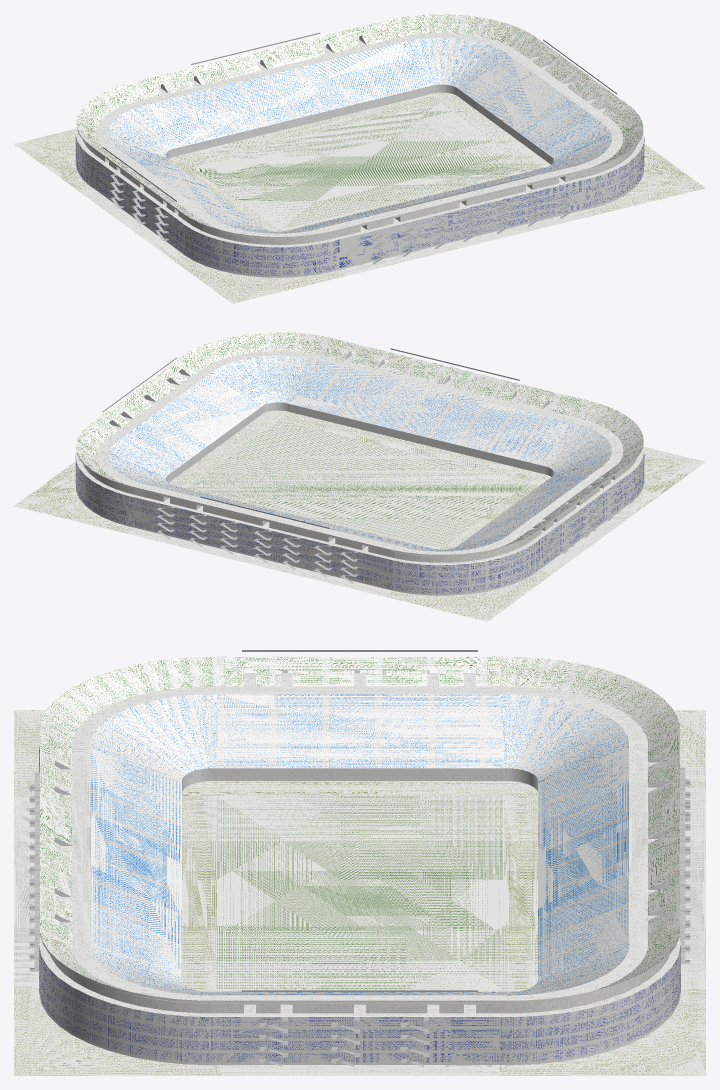
Rendered from estadio2.glb.
3 views of the same model, one above another, from view 1: azimuth 30°, elevation 25°; view 2: azimuth 150°, elevation 25°; view 3: azimuth 270°, elevation 25° (orthographic). The views are drawn at different scales.
Parts seen in each view (by area): view 1: SketchUp.002, SketchUp.003, SketchUp.001, SketchUp.201, SketchUp.202, SketchUp.004, SketchUp.200, SketchUp, SketchUp.006, SketchUp.353, SketchUp.356, SketchUp.351 (+1 smaller); view 2: SketchUp.002, SketchUp.003, SketchUp.001, SketchUp.201, SketchUp.202, SketchUp.004, SketchUp.200, SketchUp, SketchUp.356, SketchUp.354, SketchUp.355, SketchUp.006 (+1 smaller); view 3: SketchUp.002, SketchUp.003, SketchUp.201, SketchUp.001, SketchUp.202, SketchUp.004, SketchUp.200, SketchUp.353, SketchUp.354, SketchUp, SketchUp.355, SketchUp.351 (+3 smaller).
Part boxes in pixels (left/top/right/bottom): SketchUp.002: left=108, top=37, right=611, bottom=233; SketchUp.003: left=189, top=102, right=530, bottom=229; SketchUp.001: left=75, top=135, right=644, bottom=277; SketchUp.201: left=76, top=14, right=643, bottom=230; SketchUp.202: left=76, top=32, right=643, bottom=247; SketchUp.004: left=168, top=92, right=550, bottom=231; SketchUp.200: left=76, top=126, right=643, bottom=244; SketchUp: left=166, top=84, right=553, bottom=164; SketchUp.006: left=167, top=252, right=345, bottom=303; SketchUp.353: left=585, top=143, right=705, bottom=215; SketchUp.356: left=14, top=129, right=92, bottom=191; SketchUp.351: left=338, top=210, right=591, bottom=275; SketchUp.002: left=108, top=355, right=611, bottom=551; SketchUp.003: left=189, top=420, right=530, bottom=547; SketchUp.001: left=75, top=453, right=644, bottom=595; SketchUp.201: left=76, top=332, right=643, bottom=548; SketchUp.202: left=76, top=351, right=643, bottom=565; SketchUp.004: left=169, top=410, right=551, bottom=549; SketchUp.200: left=76, top=443, right=643, bottom=562; SketchUp: left=166, top=402, right=553, bottom=482; SketchUp.356: left=385, top=570, right=552, bottom=621; SketchUp.354: left=14, top=461, right=134, bottom=533; SketchUp.355: left=127, top=528, right=392, bottom=596; SketchUp.006: left=627, top=447, right=705, bottom=509; SketchUp.002: left=90, top=694, right=629, bottom=995; SketchUp.003: left=216, top=795, right=503, bottom=990; SketchUp.201: left=40, top=656, right=679, bottom=990; SketchUp.001: left=39, top=745, right=680, bottom=1065; SketchUp.202: left=39, top=673, right=680, bottom=1016; SketchUp.004: left=182, top=781, right=537, bottom=992; SketchUp.200: left=40, top=931, right=679, bottom=1013; SketchUp.353: left=14, top=988, right=220, bottom=1075; SketchUp.354: left=499, top=988, right=705, bottom=1075; SketchUp: left=182, top=768, right=537, bottom=791; SketchUp.355: left=681, top=789, right=705, bottom=988; SketchUp.351: left=14, top=797, right=38, bottom=988.
Bounding box in the file's own units: 196 × 18.17 × 157.
10 materials, 8 textured.
